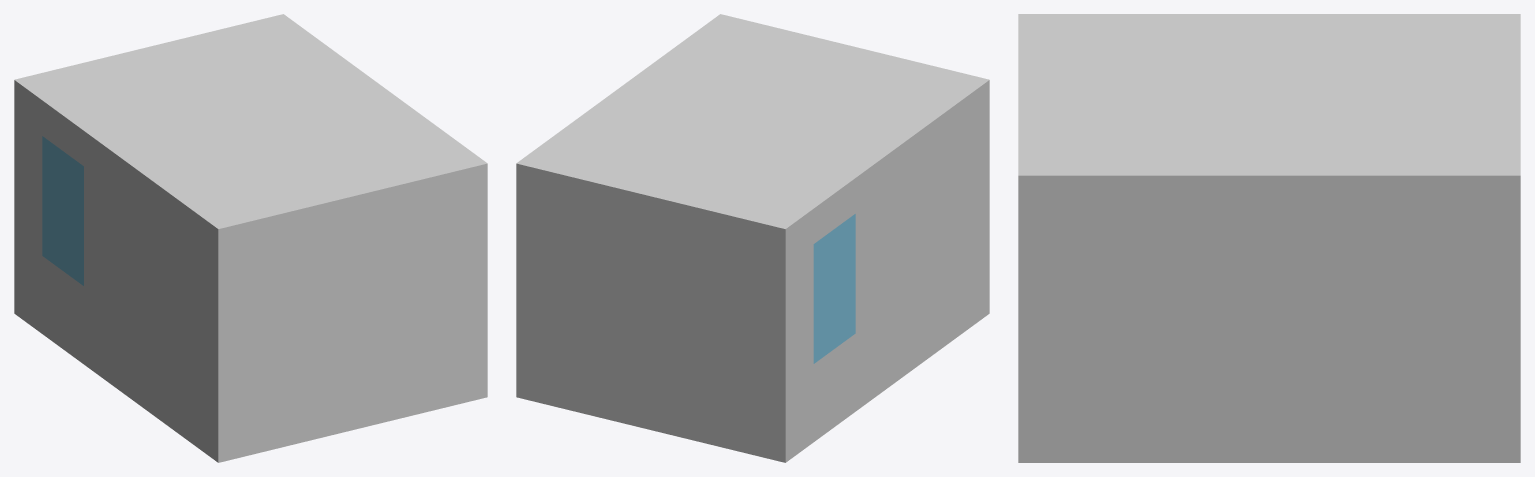
The model's file is LivingRoom_low.fbx.
The picture shows the model from 3 angles, left to right: view 1: azimuth 30°, elevation 25°; view 2: azimuth 150°, elevation 25°; view 3: azimuth 270°, elevation 25°; orthographic projection. The views are drawn at different scales.
Parts seen in each view (by area): view 1: SM_WallsFloor; view 2: SM_WallsFloor; view 3: SM_WallsFloor.
Part boxes in pixels (<box>): SM_WallsFloor: <box>14,14,487,462</box>; SM_WallsFloor: <box>516,14,989,462</box>; SM_WallsFloor: <box>1018,14,1520,462</box>.
Bounding box in the file's own units: 310 × 257 × 407.
